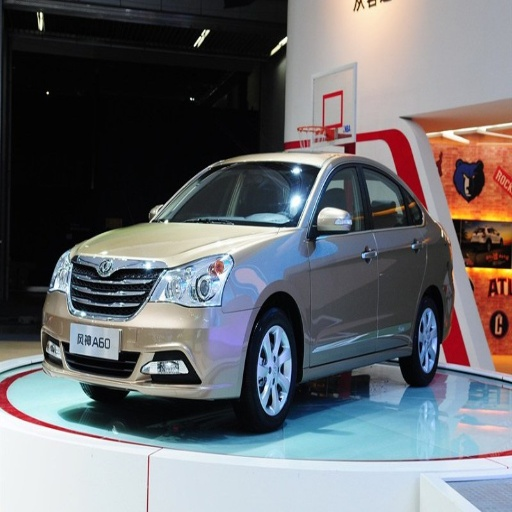front_bumper: (46, 252, 256, 395)
front_glass: (154, 163, 319, 224)
front_left_door: (309, 159, 377, 362)
